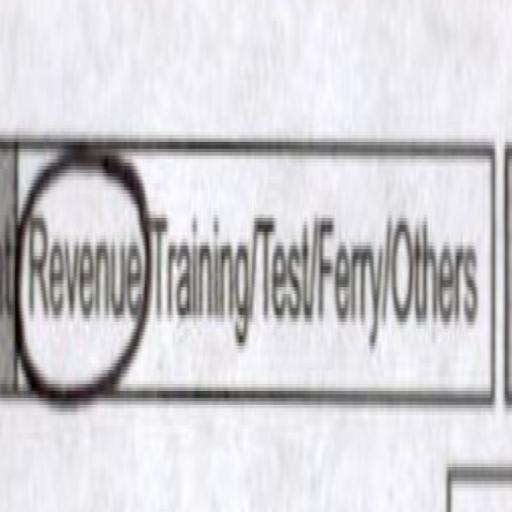check: (15, 88, 153, 454)
